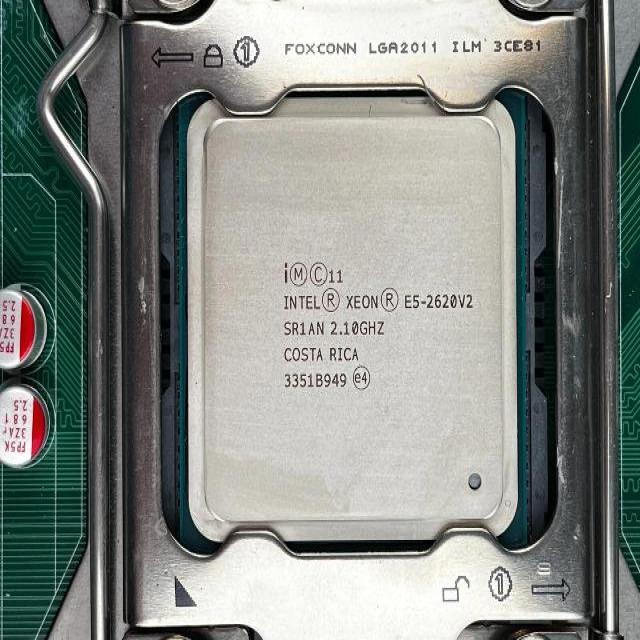CPU: (178, 88, 526, 556)
